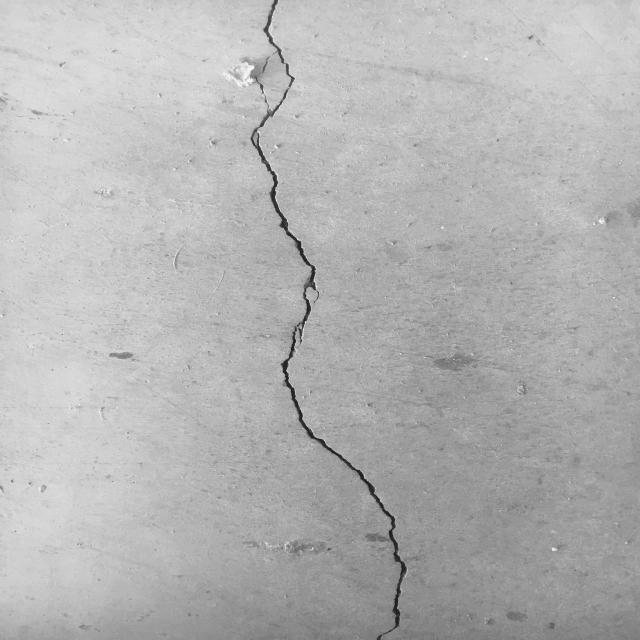SurfaceCrack: (220, 1, 429, 640)
